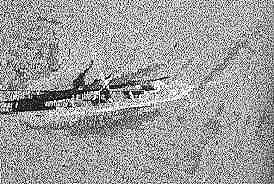ship: (42, 78, 189, 116)
